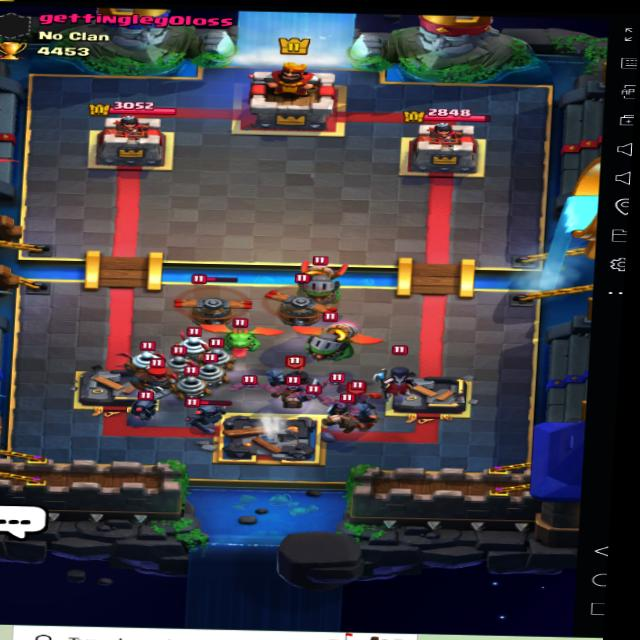Babydragon: (205, 314, 279, 350)
Bat: (305, 377, 340, 404), (326, 388, 357, 410), (273, 370, 307, 390), (227, 376, 262, 393), (322, 372, 347, 390)
Darkprince: (325, 385, 398, 443), (260, 343, 328, 390)
Flyingmachine: (159, 275, 255, 334), (265, 281, 334, 333)
Infernodragon: (282, 259, 360, 314), (309, 315, 368, 372)
Minipekka: (175, 400, 232, 432), (108, 396, 164, 420)
Nightwitch: (375, 358, 432, 404)
Zappies: (119, 337, 175, 373), (180, 354, 231, 385), (198, 339, 243, 370), (169, 363, 210, 395), (149, 347, 193, 375), (173, 328, 215, 356)
hunter: (128, 360, 184, 394)
